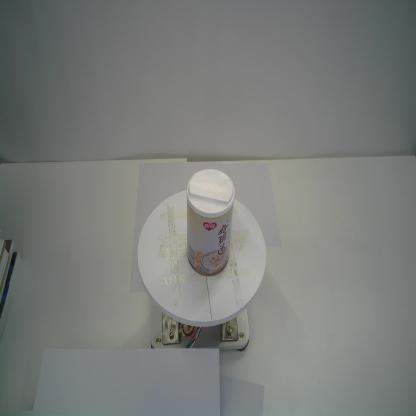Canned Food: (184, 166, 235, 277)
